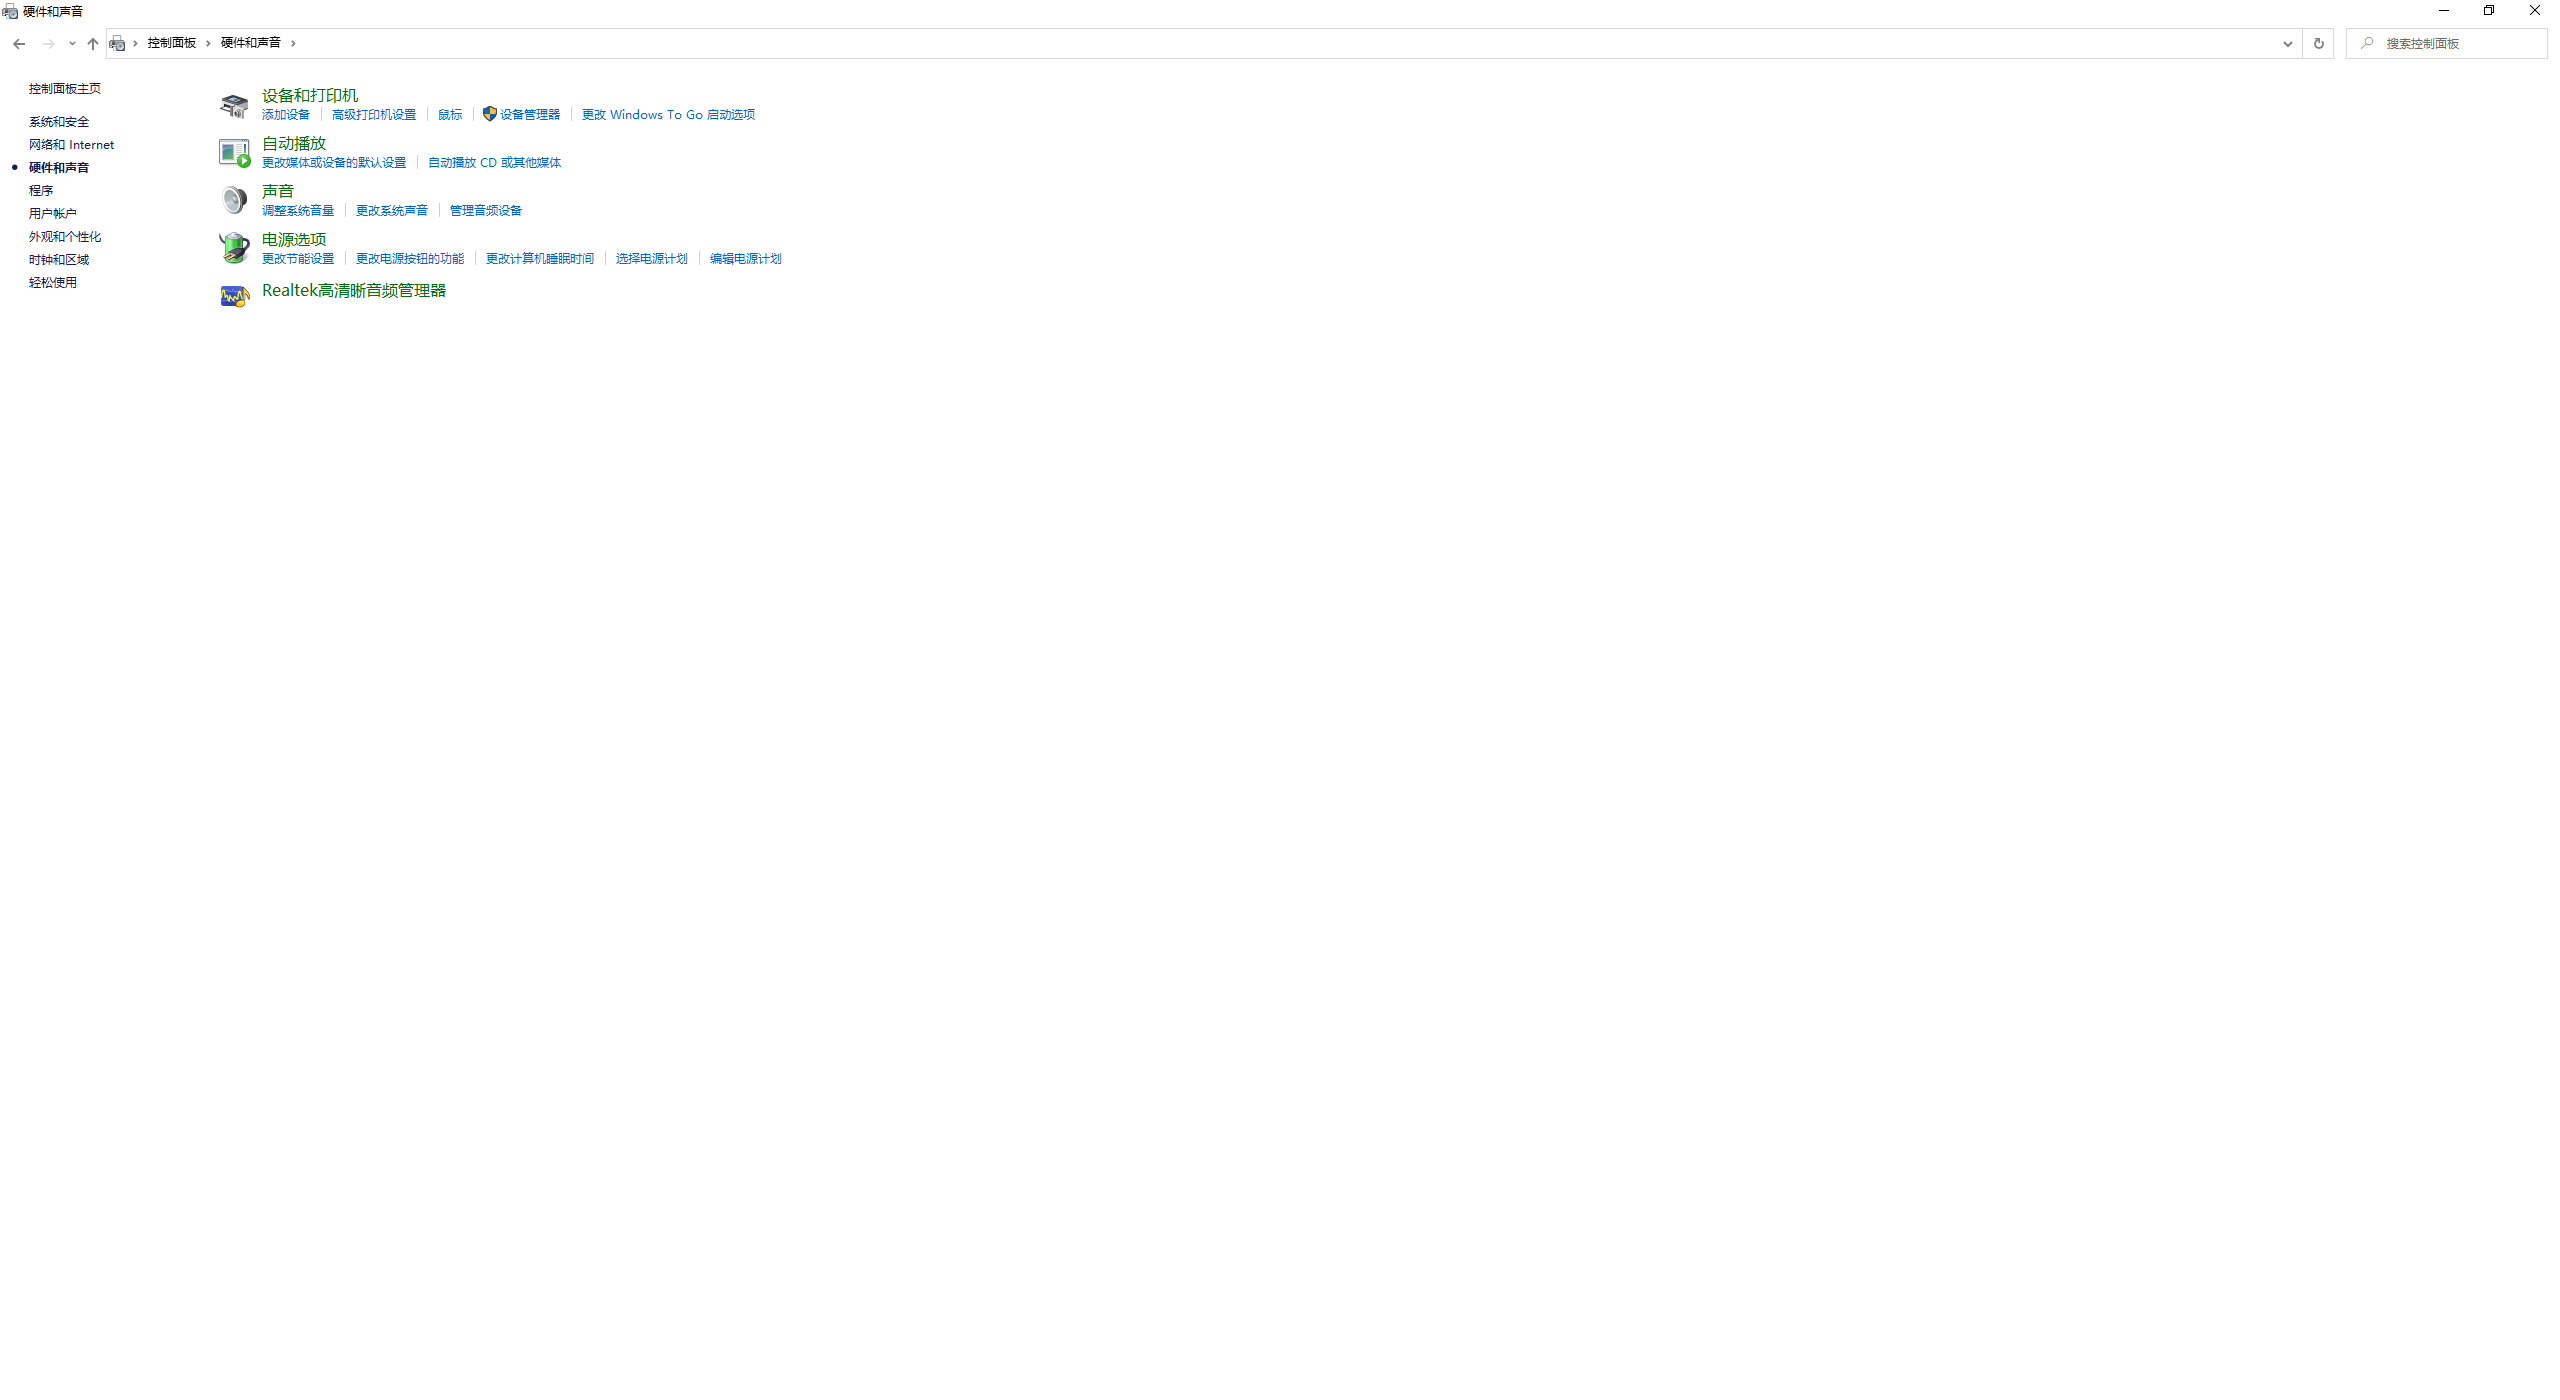character: (579, 103, 760, 126), (260, 279, 453, 300), (264, 155, 405, 172), (483, 248, 598, 269), (357, 248, 469, 267), (426, 157, 565, 171), (260, 86, 360, 103), (2388, 31, 2463, 53), (448, 203, 529, 222), (22, 78, 102, 97), (329, 105, 414, 122), (615, 248, 691, 266), (705, 250, 788, 266), (26, 228, 100, 245), (260, 252, 340, 267), (255, 231, 333, 247), (26, 138, 117, 150), (28, 252, 91, 269), (260, 134, 324, 152), (502, 105, 564, 122), (264, 203, 333, 217), (353, 203, 429, 216), (22, 3, 88, 17), (26, 207, 83, 222), (29, 116, 91, 129), (22, 276, 83, 290), (28, 162, 93, 174), (147, 36, 198, 50), (221, 36, 279, 48), (433, 105, 465, 124), (260, 109, 310, 121), (260, 183, 297, 198), (26, 183, 57, 197)
icon: (215, 229, 252, 266), (217, 136, 252, 169), (217, 93, 250, 121), (221, 184, 248, 216), (221, 284, 248, 307), (9, 33, 28, 53), (107, 34, 126, 52), (83, 34, 102, 52), (38, 34, 57, 52), (2, 2, 19, 19), (481, 105, 498, 122), (2358, 34, 2376, 52), (2310, 34, 2327, 52), (2526, 2, 2543, 17), (2281, 36, 2296, 52), (2481, 2, 2496, 17), (2436, 2, 2451, 17), (66, 34, 79, 52), (128, 36, 141, 50), (286, 36, 298, 48), (203, 36, 212, 48), (9, 164, 21, 172)
